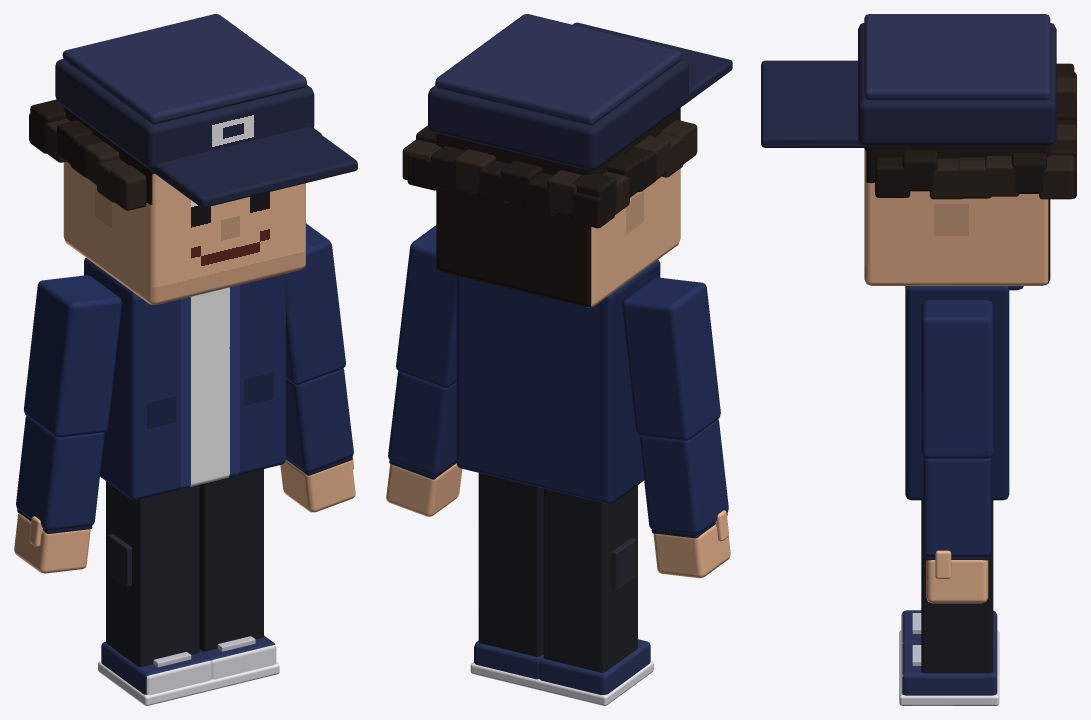
The model's file is sardor.glb.
3 renders of one model, left to right at view 1: azimuth 30°, elevation 25°; view 2: azimuth 150°, elevation 25°; view 3: azimuth 270°, elevation 25°, orthographic. The views are drawn at different scales.
Parts seen in each view (by area): view 1: torso, headm, capT, legm, up.001, cap, legm.001, brim, fo.001, up, fo, shoe (+13 smaller); view 2: torso, headm, capT, legm, up.001, cap, legm.001, fo.001, up, fo, palm.001, palm (+22 smaller); view 3: headm, capT, up, cap, brim, torso, fo, legm.001, shoe.001, palm, hv.001, hv.011 (+7 smaller).
Boxes of the visible parts, left/top/right/bottom form: torso: left=84, top=258, right=285, bottom=499; headm: left=63, top=107, right=305, bottom=304; capT: left=62, top=14, right=306, bottom=124; legm: left=106, top=481, right=199, bottom=666; up.001: left=24, top=275, right=121, bottom=437; cap: left=55, top=59, right=314, bottom=168; legm.001: left=199, top=469, right=263, bottom=651; brim: left=149, top=127, right=357, bottom=207; fo.001: left=16, top=416, right=104, bottom=530; up: left=286, top=223, right=345, bottom=384; fo: left=286, top=368, right=353, bottom=472; shoe: left=101, top=641, right=211, bottom=695; torso: left=456, top=259, right=660, bottom=503; headm: left=436, top=108, right=680, bottom=307; capT: left=435, top=14, right=681, bottom=125; legm: left=543, top=485, right=637, bottom=672; up.001: left=622, top=277, right=720, bottom=440; cap: left=428, top=59, right=688, bottom=170; legm.001: left=478, top=473, right=543, bottom=656; fo.001: left=639, top=419, right=728, bottom=534; up: left=396, top=225, right=456, bottom=387; fo: left=388, top=371, right=456, bottom=475; palm.001: left=653, top=524, right=730, bottom=578; palm: left=386, top=463, right=462, bottom=516; headm: left=864, top=145, right=1050, bottom=285; capT: left=864, top=14, right=1050, bottom=99; up: left=921, top=300, right=993, bottom=458; cap: left=858, top=23, right=1056, bottom=145; brim: left=761, top=60, right=871, bottom=147; torso: left=905, top=286, right=1009, bottom=500; fo: left=923, top=457, right=991, bottom=556; legm.001: left=921, top=500, right=993, bottom=673; shoe.001: left=901, top=642, right=997, bottom=695; palm: left=926, top=560, right=988, bottom=603; hv.001: left=1039, top=155, right=1074, bottom=199; hv.011: left=902, top=150, right=937, bottom=191.
Size of the model in its own units: 3.77 by 6.85 by 3.15.
23 materials, 6 textured.
